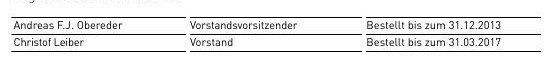table: (0, 0, 552, 68)
